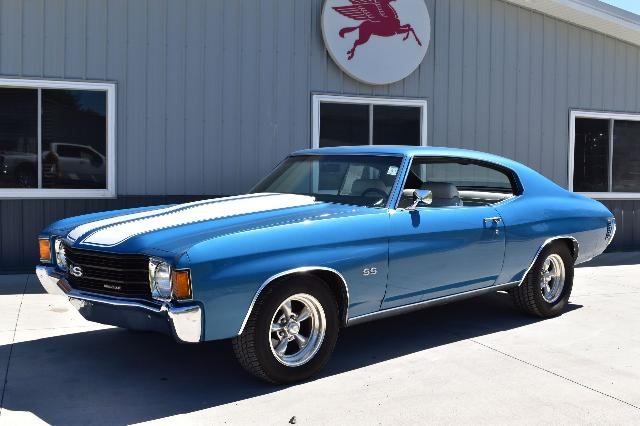chevelle-1972: (36, 146, 616, 384)
